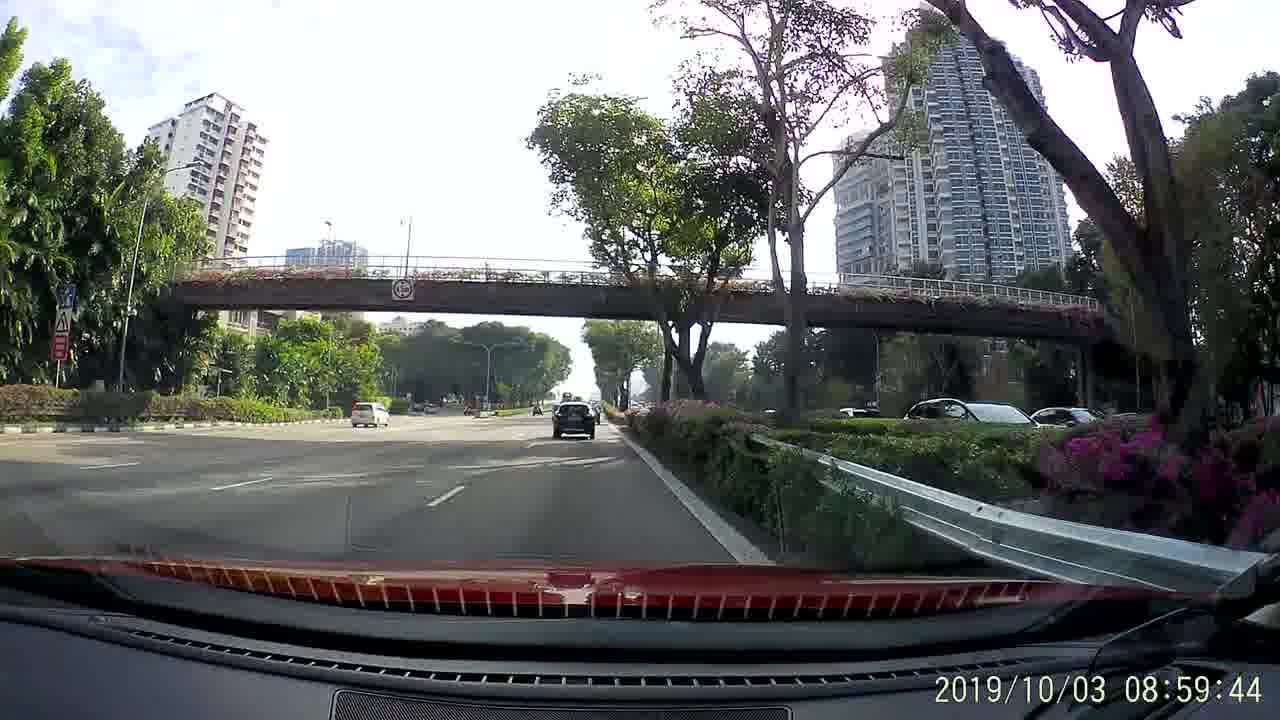car: (905, 398, 1045, 431), (550, 401, 598, 443), (354, 400, 392, 427), (529, 402, 542, 418)
